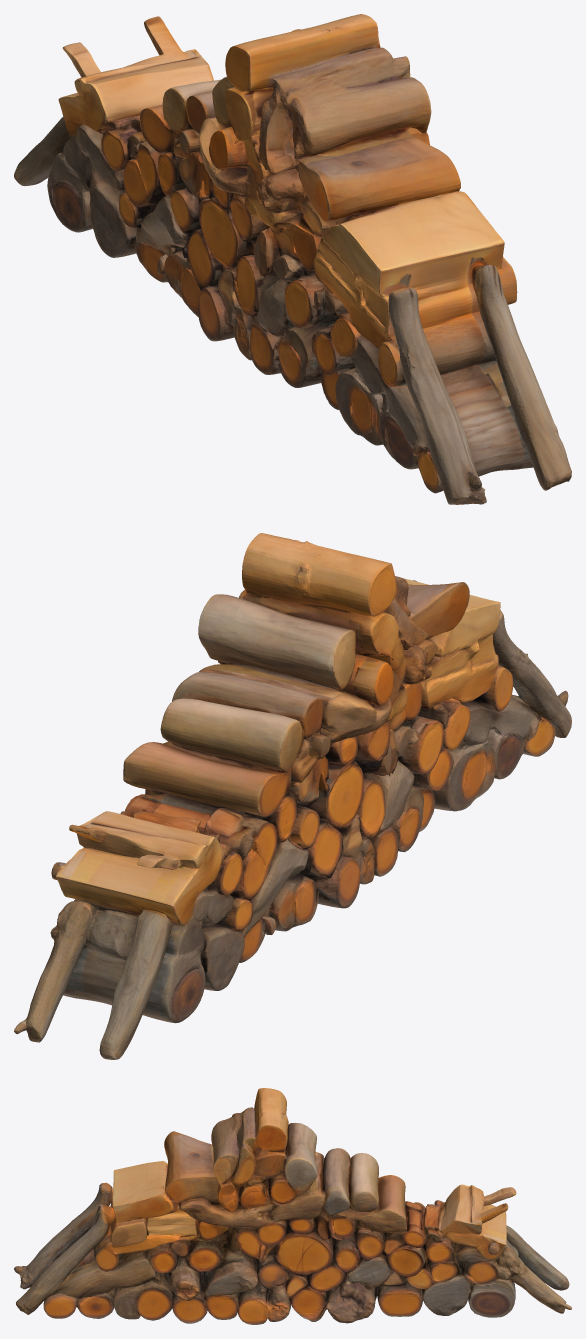
File: Conjunto_de_ramas_tip_0403165201_texture.fbx
3 renders of one model, top to bottom at view 1: azimuth 30°, elevation 25°; view 2: azimuth 150°, elevation 25°; view 3: azimuth 270°, elevation 25°, orthographic. The views are drawn at different scales.
Visible parts, largest first — view 1: temp; view 2: temp; view 3: temp.
Part boxes in pixels (bbox=[...]): temp: bbox=[14, 14, 571, 504]; temp: bbox=[14, 533, 571, 1059]; temp: bbox=[14, 1088, 571, 1324].
Size of the model in its own units: 46.05 by 77.29 by 199.
1 material, 1 textured.
